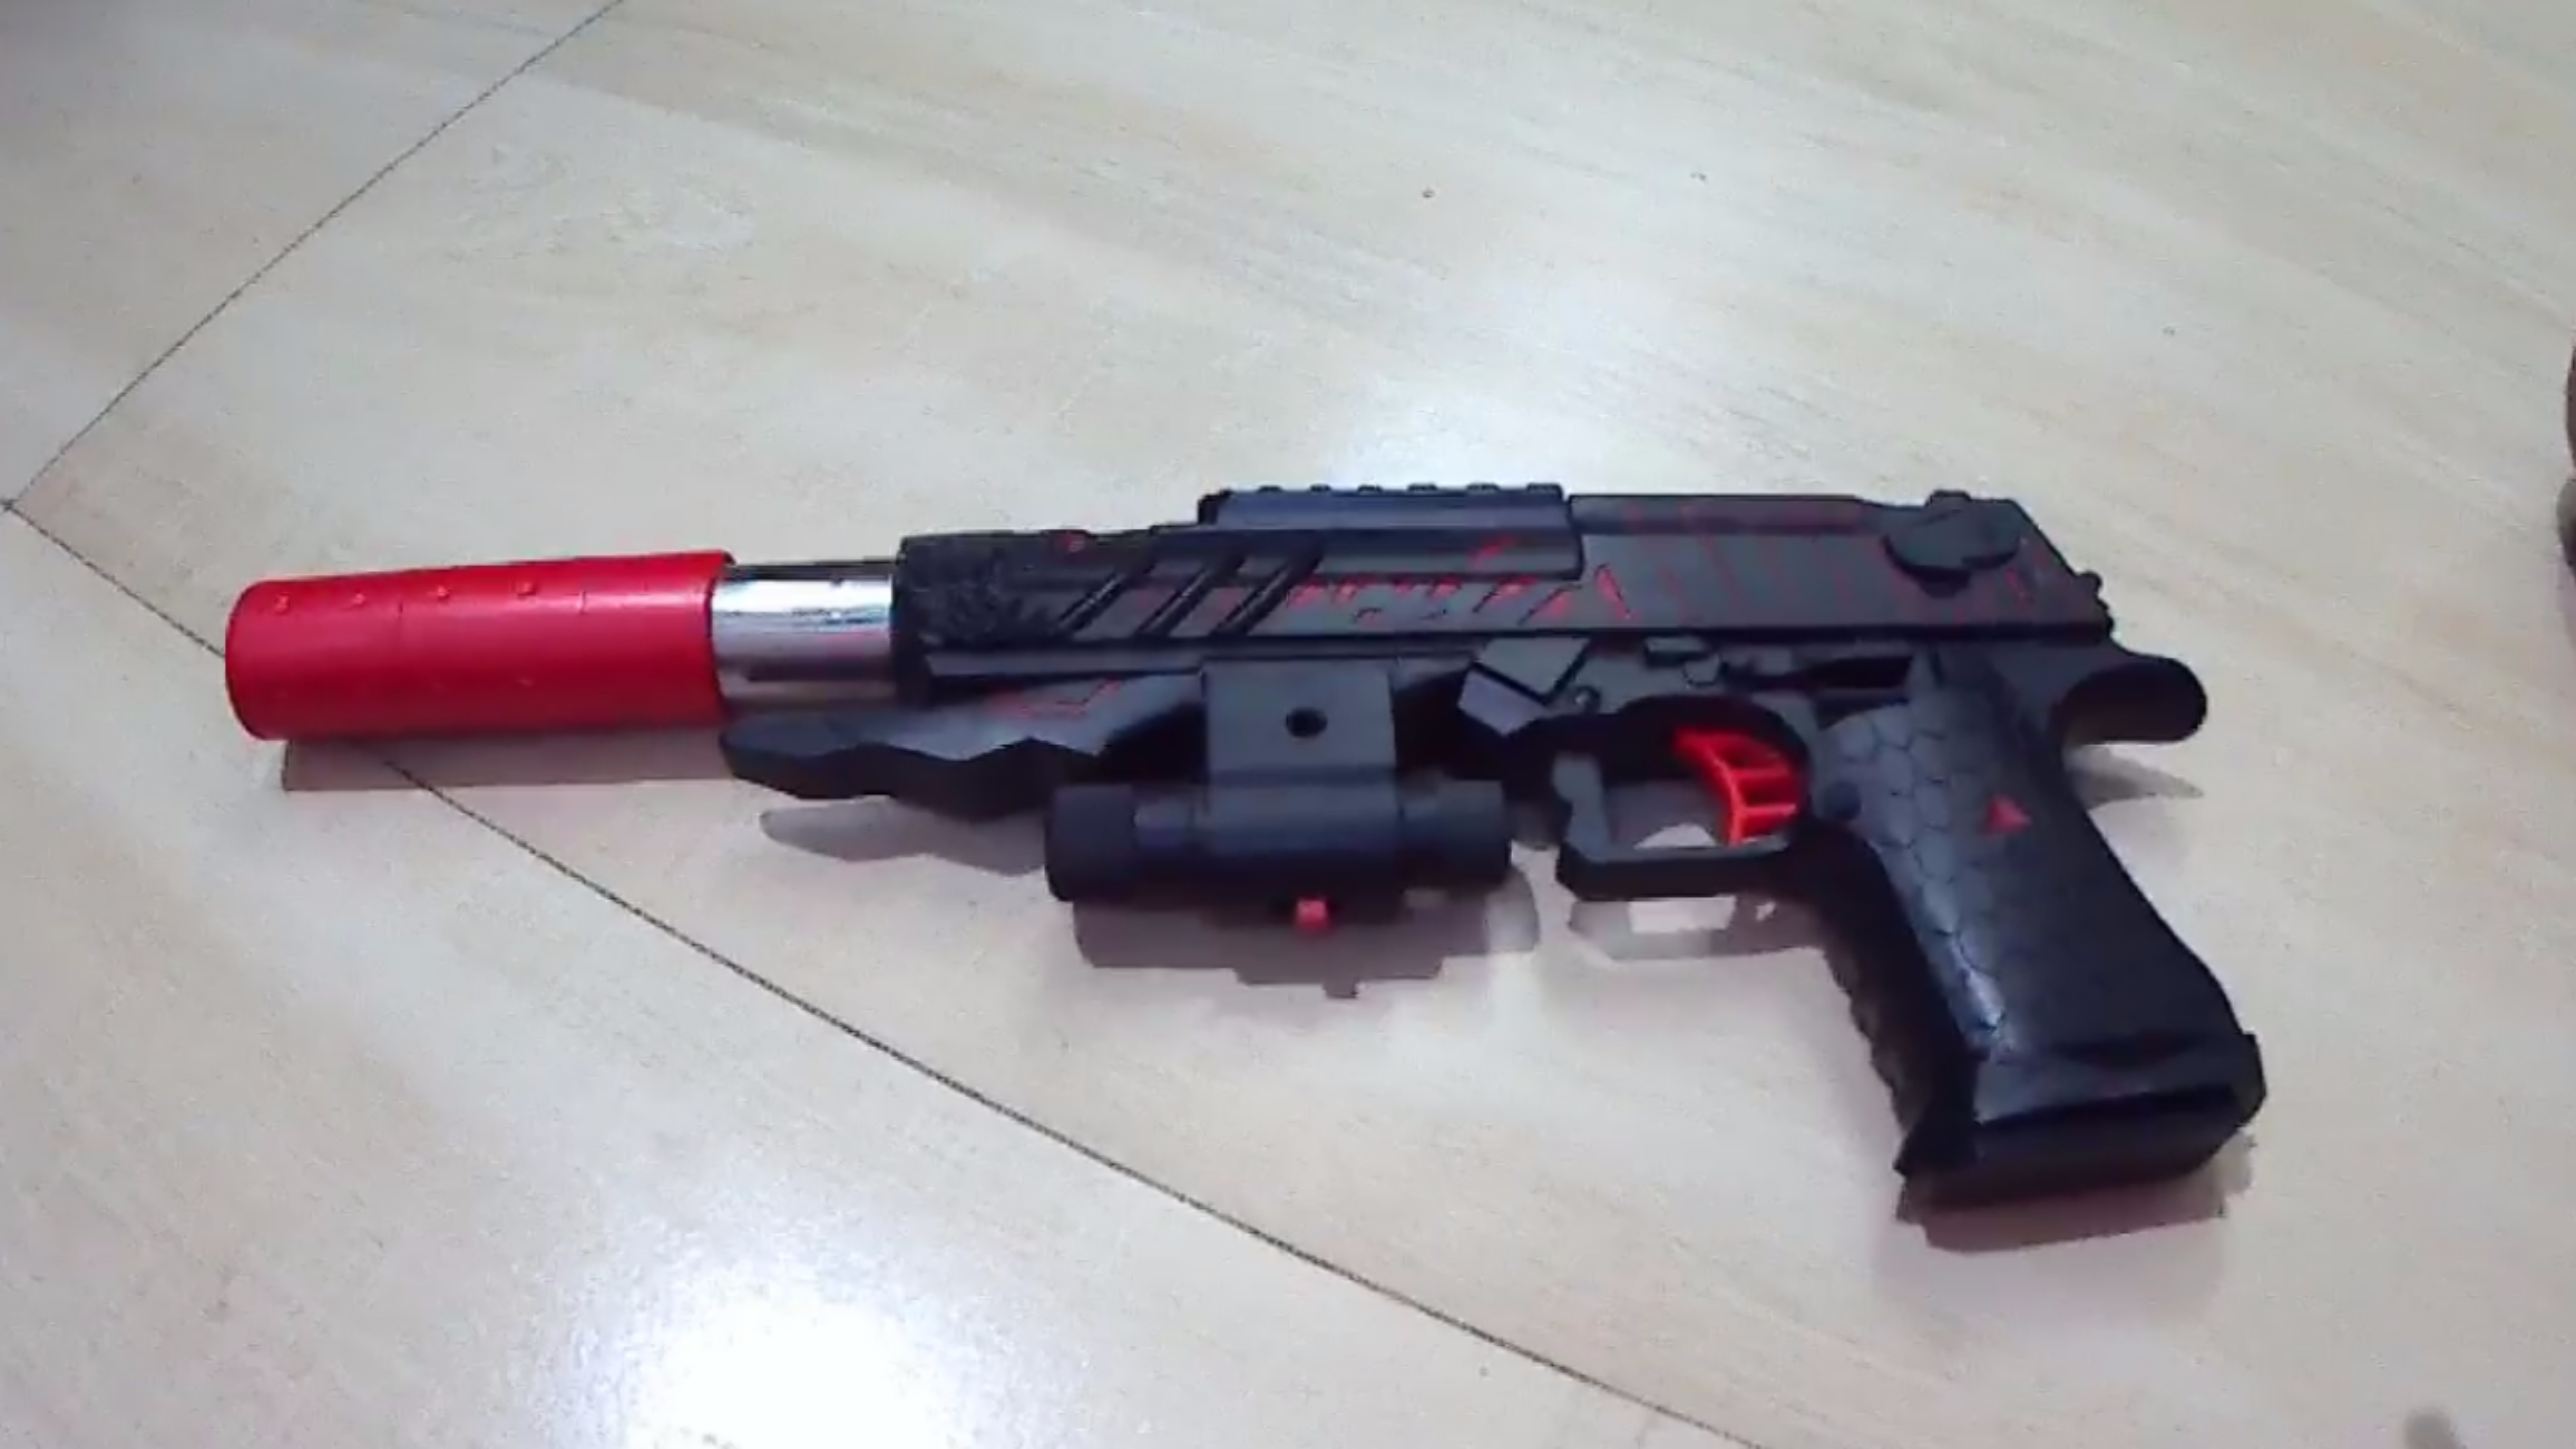handgun: (191, 433, 2300, 1246)
